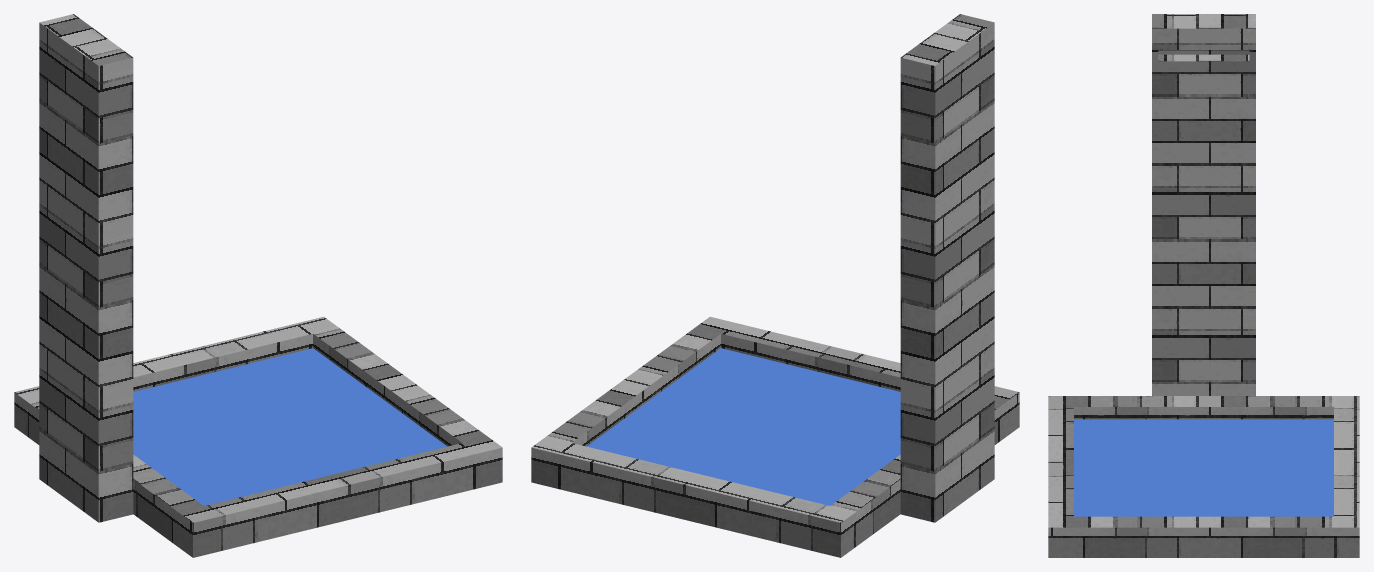
The model's file is fountain1.glb.
The picture shows the model from 3 angles, left to right: view 1: azimuth 30°, elevation 25°; view 2: azimuth 150°, elevation 25°; view 3: azimuth 270°, elevation 25°; orthographic projection. The views are drawn at different scales.
Visible parts, largest first — view 1: Plane; view 2: Plane; view 3: Plane.
Part boxes in pixels (x1,y1,x2,y2): Plane: (14, 14, 502, 557); Plane: (531, 14, 1019, 557); Plane: (1048, 14, 1359, 557).
Size of the model in its own units: 2.22 by 2.82 by 2.
2 materials, 1 textured.
